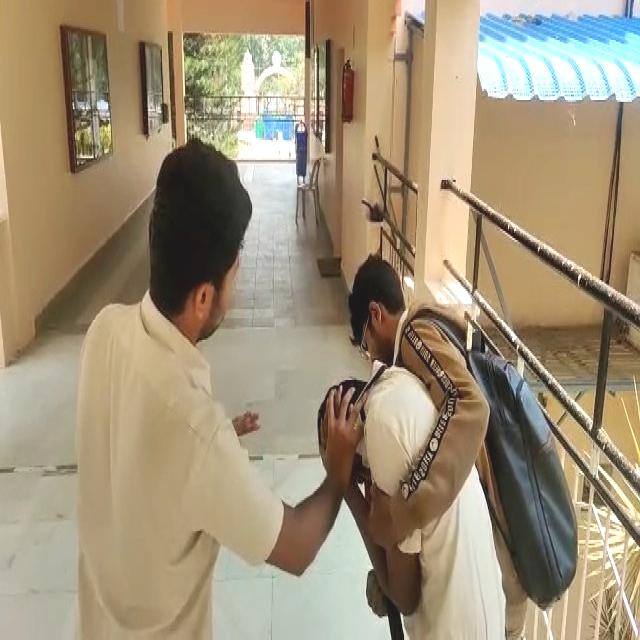fight: (72, 235, 586, 638)
